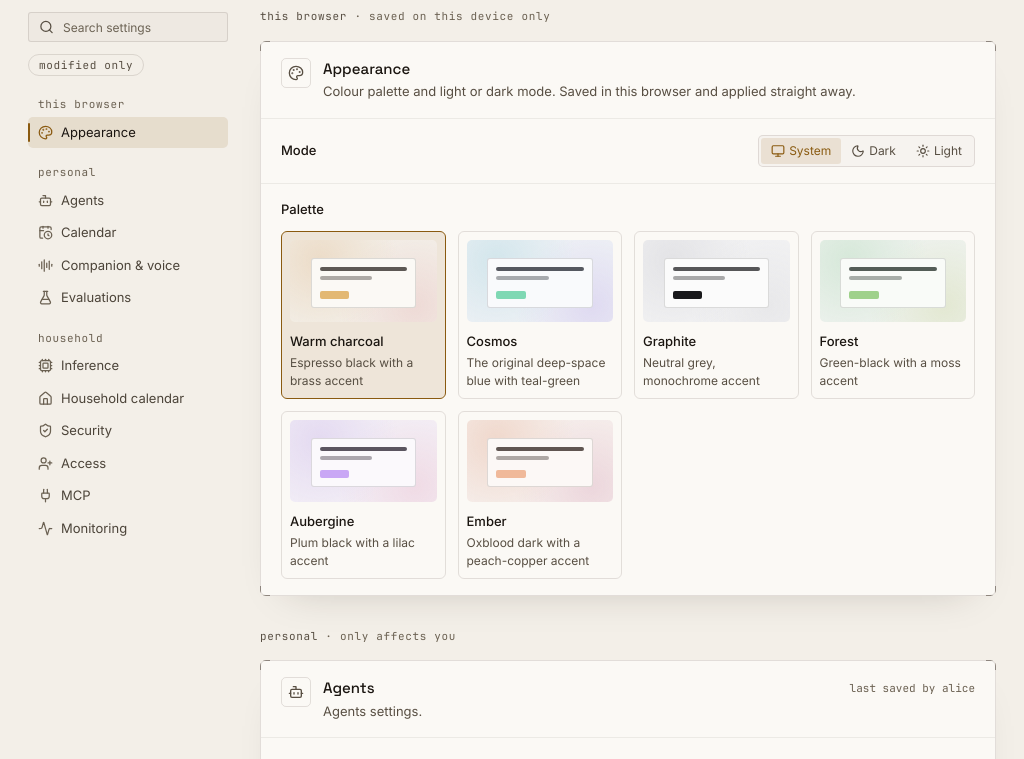
Test: Settings search and filters › filters settings by search terms, including keywords
Step 1. Type "timeout" into the search field labelled "Search settings" → (128, 27), box [28,12,228,42]
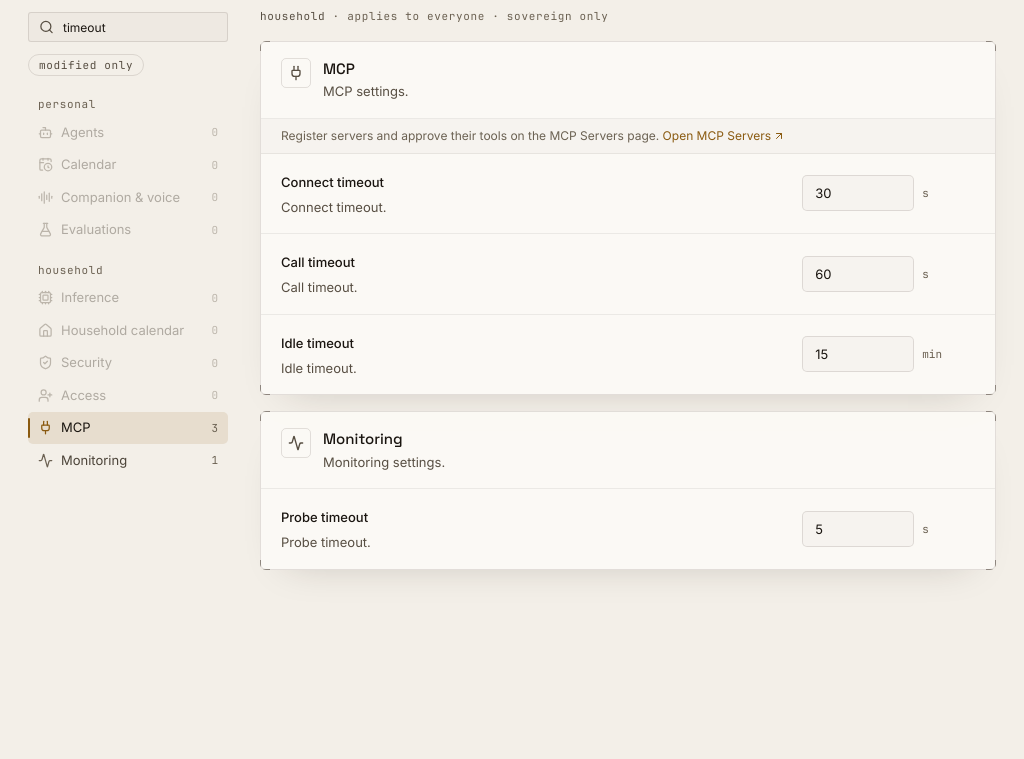
Now the number field labelled "Call timeout" is shown, box [802,256,914,292]
Now the number field labelled "Probe timeout" is shown, box [802,511,914,547]
